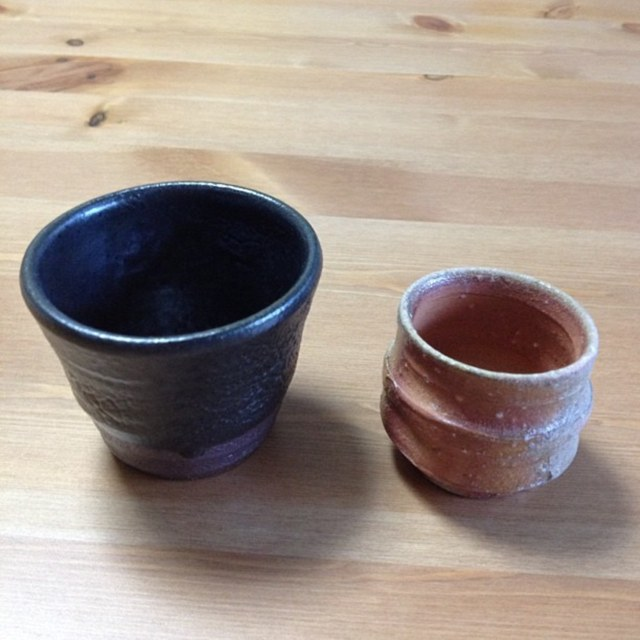bowl: (17, 181, 327, 477), (380, 266, 598, 499)
